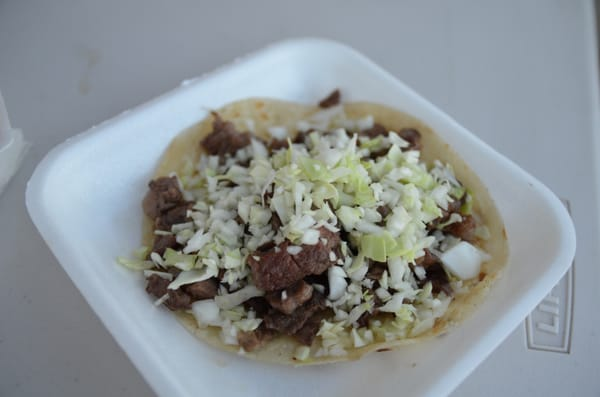sushi: (20, 36, 555, 386)
